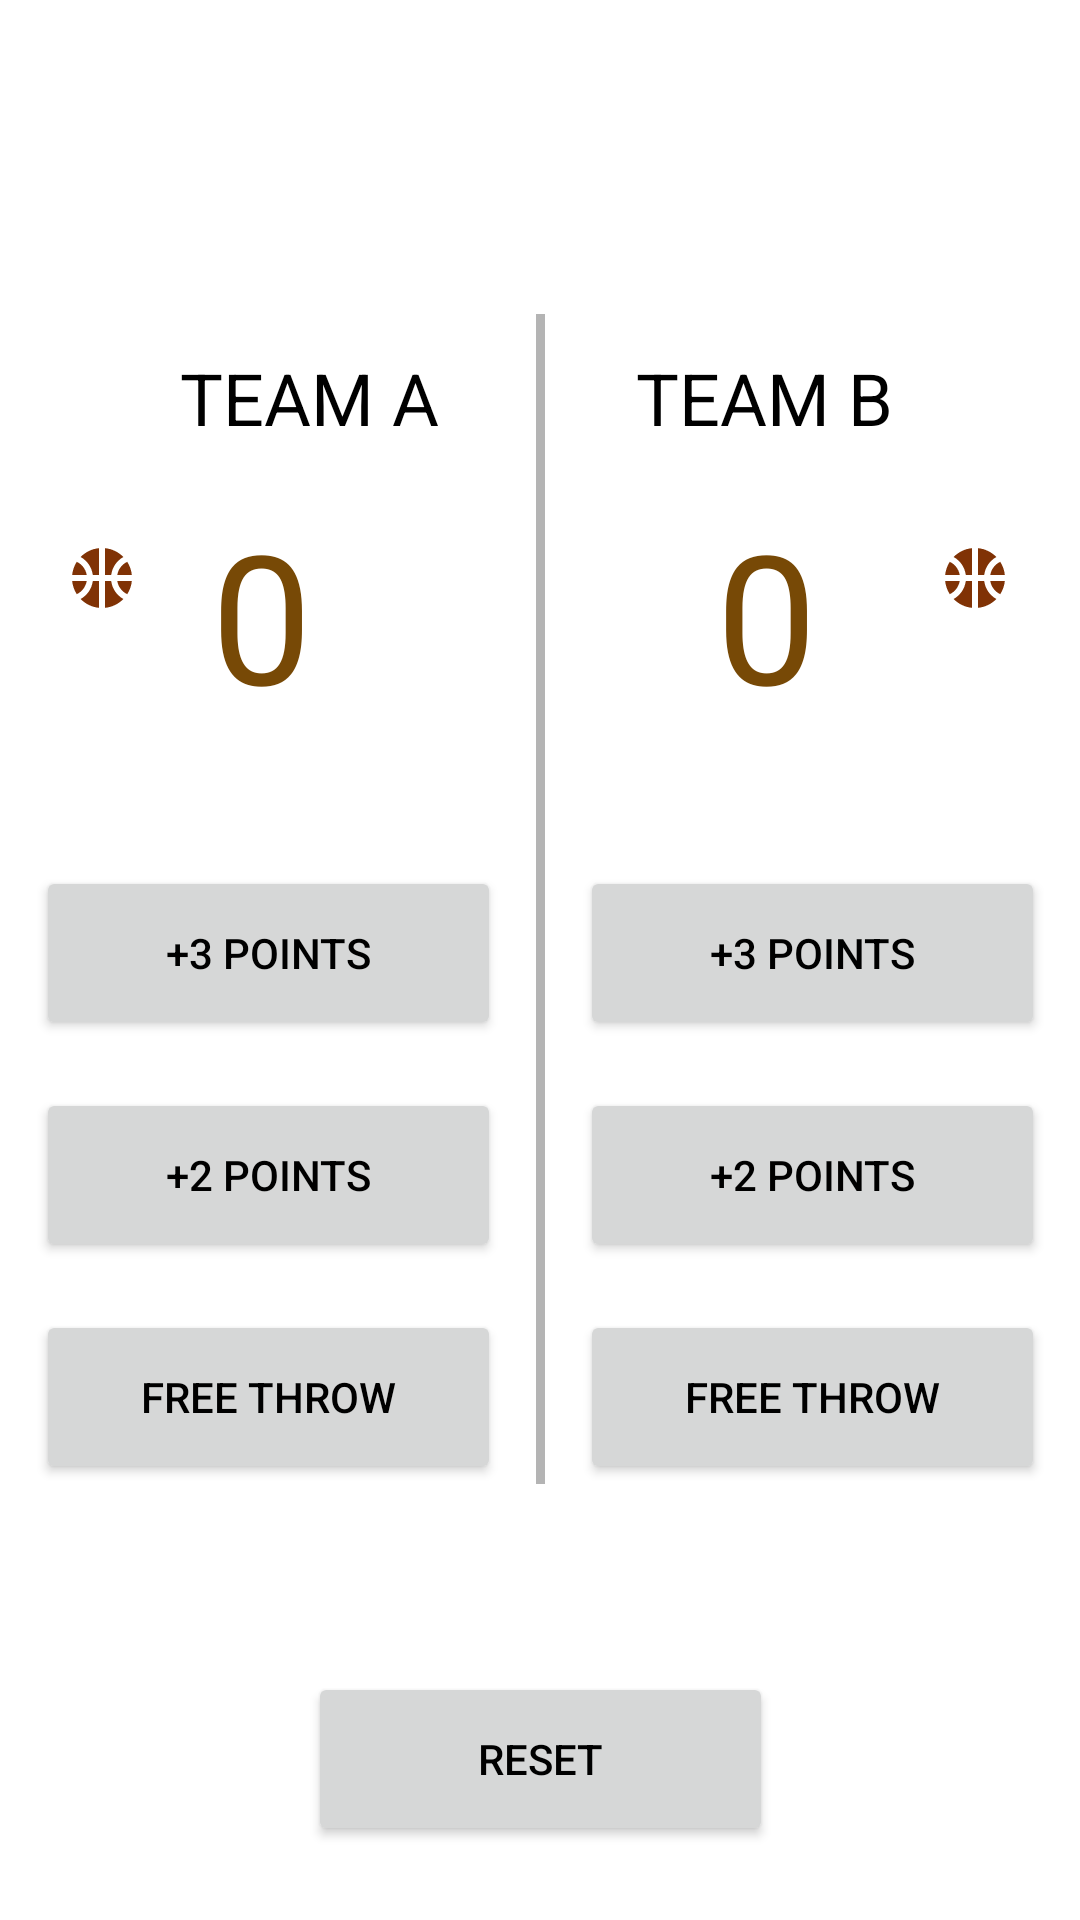

Where icons sit on this 1080x1920 app screen, as (x1, y1, x2, y2):
sports basketball: (72, 548, 132, 608), (945, 548, 1005, 608)
